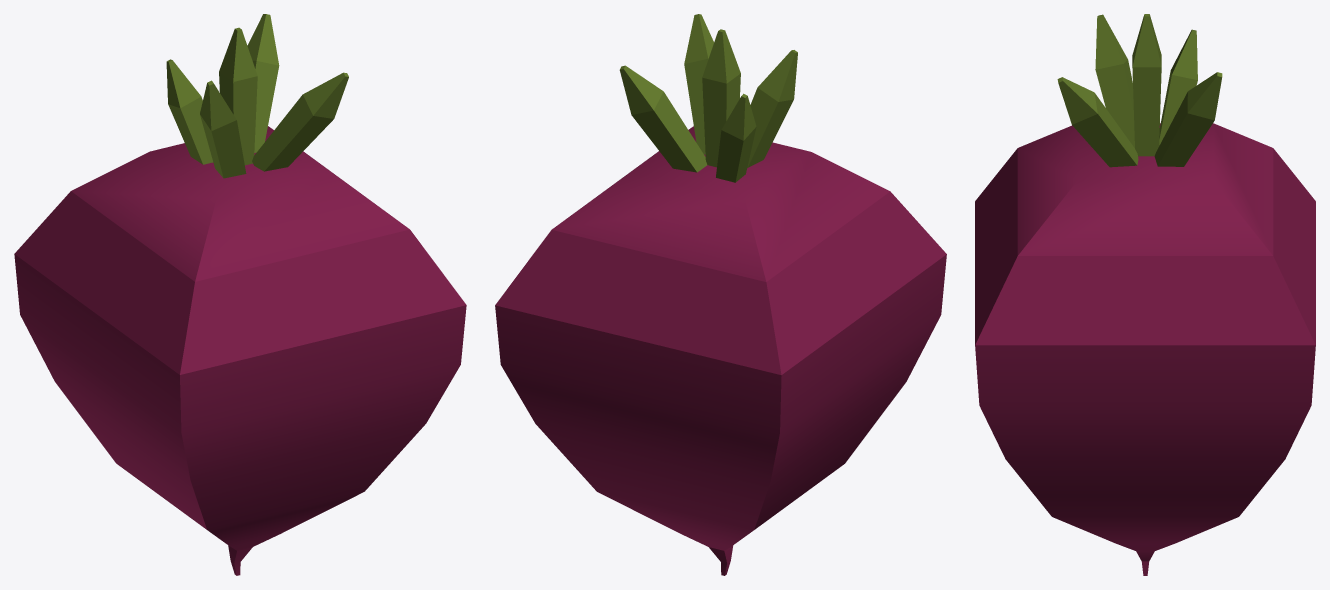
The model's file is Mesh_EarthPlant_02.fbx.
3 renders of one model, left to right at view 1: azimuth 30°, elevation 25°; view 2: azimuth 150°, elevation 25°; view 3: azimuth 270°, elevation 25°, orthographic. The views are drawn at different scales.
Visible parts, largest first — view 1: Earth_tuber, Crystal1, Crystal, Crystal2, Crystal4, Crystal3; view 2: Earth_tuber, Crystal3, Crystal, Crystal2, Crystal4, Crystal1; view 3: Earth_tuber, Crystal, Crystal1, Crystal3, Crystal2, Crystal4.
Part boxes in pixels (left/top/right/bottom): Earth_tuber: left=14, top=126, right=466, bottom=575; Crystal1: left=252, top=72, right=348, bottom=171; Crystal: left=219, top=27, right=257, bottom=165; Crystal2: left=200, top=80, right=246, bottom=178; Crystal4: left=166, top=59, right=212, bottom=164; Crystal3: left=247, top=14, right=279, bottom=152; Earth_tuber: left=495, top=126, right=946, bottom=575; Crystal3: left=619, top=65, right=707, bottom=172; Crystal: left=702, top=29, right=740, bottom=167; Crystal2: left=747, top=50, right=797, bottom=167; Crystal4: left=716, top=93, right=756, bottom=182; Crystal1: left=684, top=14, right=713, bottom=154; Earth_tuber: left=975, top=123, right=1315, bottom=575; Crystal: left=1132, top=14, right=1161, bottom=156; Crystal1: left=1057, top=77, right=1138, bottom=167; Crystal3: left=1154, top=72, right=1222, bottom=166; Crystal2: left=1095, top=14, right=1134, bottom=147; Crystal4: left=1159, top=29, right=1197, bottom=145.
Bounding box in the file's own units: 16.53 × 30.02 × 16.53.
